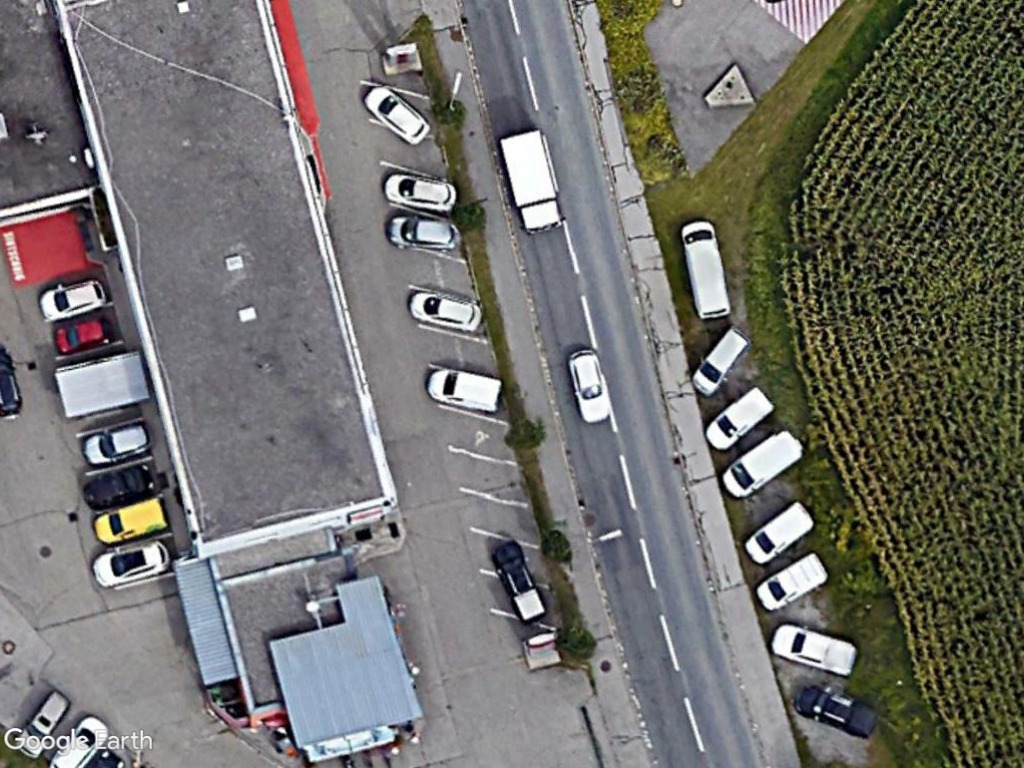car: (358, 82, 435, 148), (88, 535, 174, 593), (562, 342, 616, 427), (403, 287, 487, 333), (381, 169, 462, 216), (81, 418, 156, 467), (38, 274, 111, 323), (386, 209, 461, 251), (45, 315, 114, 359)
other: (763, 623, 861, 679), (489, 539, 546, 628), (793, 680, 877, 739)
truck: (495, 129, 567, 236)
van: (716, 423, 805, 503), (677, 218, 733, 323), (700, 385, 774, 458), (741, 497, 816, 568), (754, 549, 828, 614), (89, 491, 172, 544), (688, 324, 747, 398), (426, 364, 506, 414)
